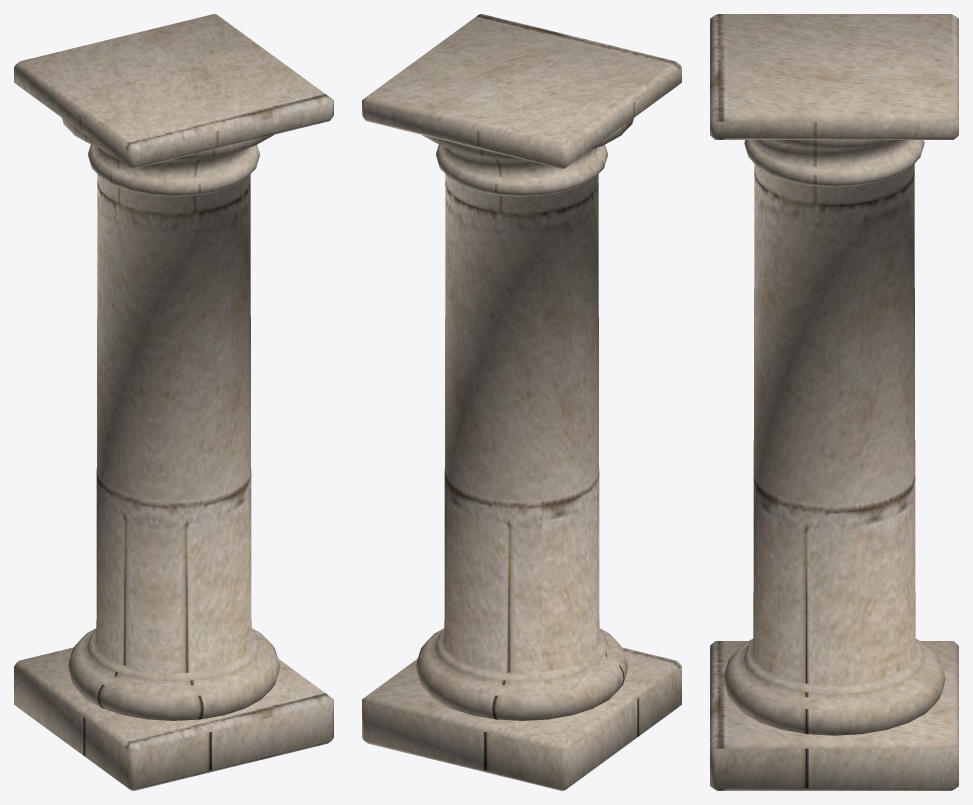
Rendered from limestone pillar.glb.
3 views of the same model, side by side, from view 1: azimuth 30°, elevation 25°; view 2: azimuth 150°, elevation 25°; view 3: azimuth 270°, elevation 25° (orthographic). The views are drawn at different scales.
Visible parts, largest first — view 1: column.002; view 2: column.002; view 3: column.002.
Boxes of the visible parts, box(x1,y1,x2,y2) form: column.002: box(14, 14, 333, 790); column.002: box(362, 14, 681, 790); column.002: box(710, 14, 958, 790).
Bounding box in the file's own units: 0.9144 × 2.74 × 0.9144.
Materials: 1 (1 with a texture image).
